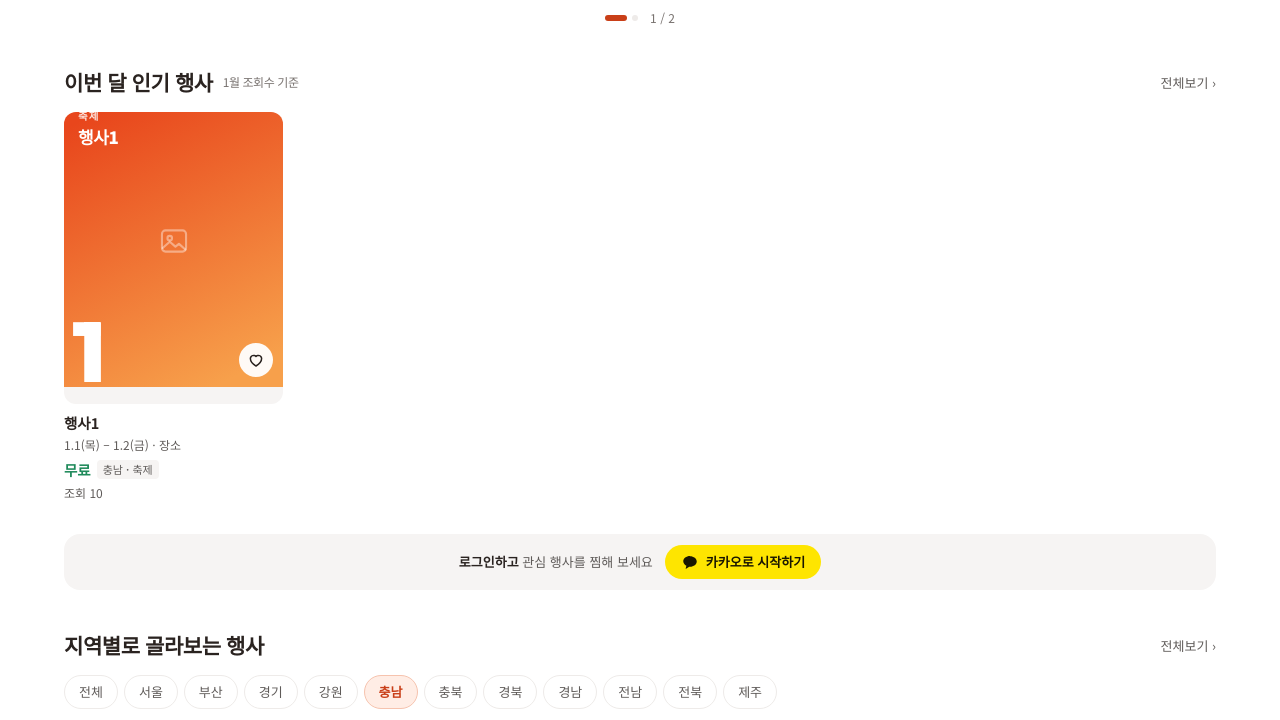
Home (비로그인) › 필터 없는 목록 하나로 섹션을 그리고, 하트를 누르면 로그인 유도 모달을 연다
(page scrolled)
Step 1. Click the button named "찜하기" → (256, 360), box [239,343,273,377]
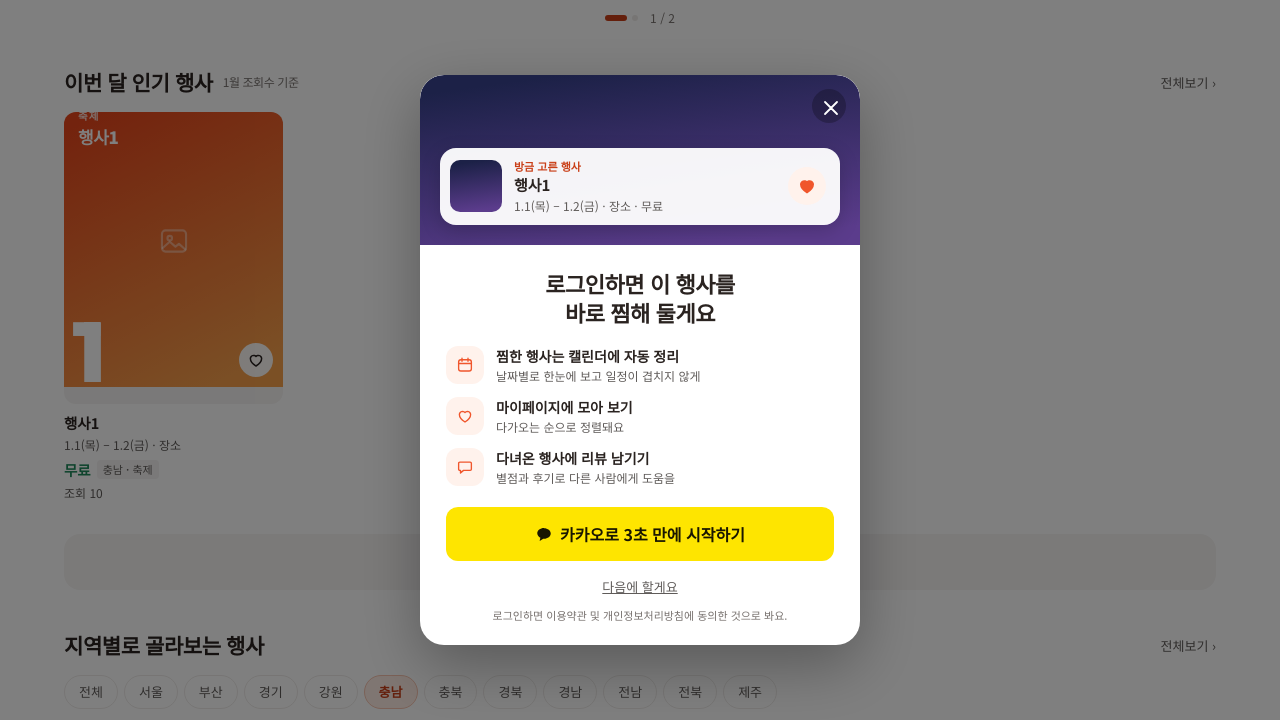
Expected: the dialog named "로그인 안내" is shown, [420,74,860,645]
Expected: the heading is shown, [545,266,735,328]
Expected: the text "방금 고른 행사" is shown, [514,158,581,174]
